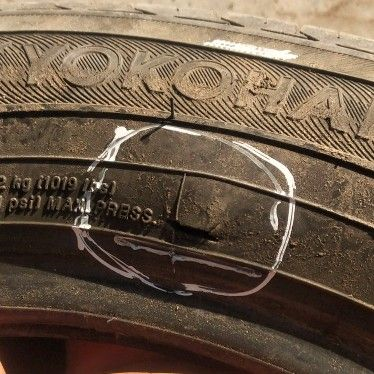cut: (166, 220, 223, 240)
